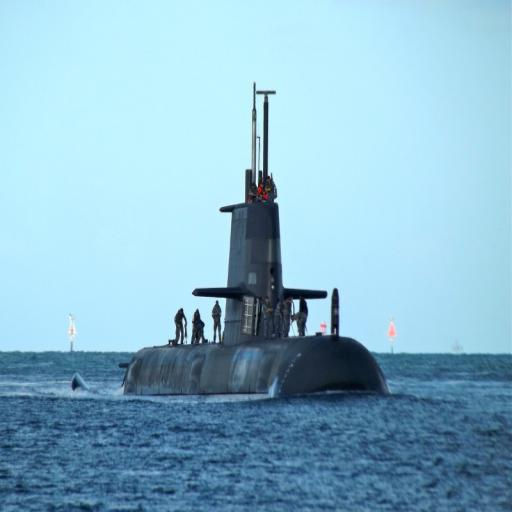submarine: (73, 84, 392, 397)
